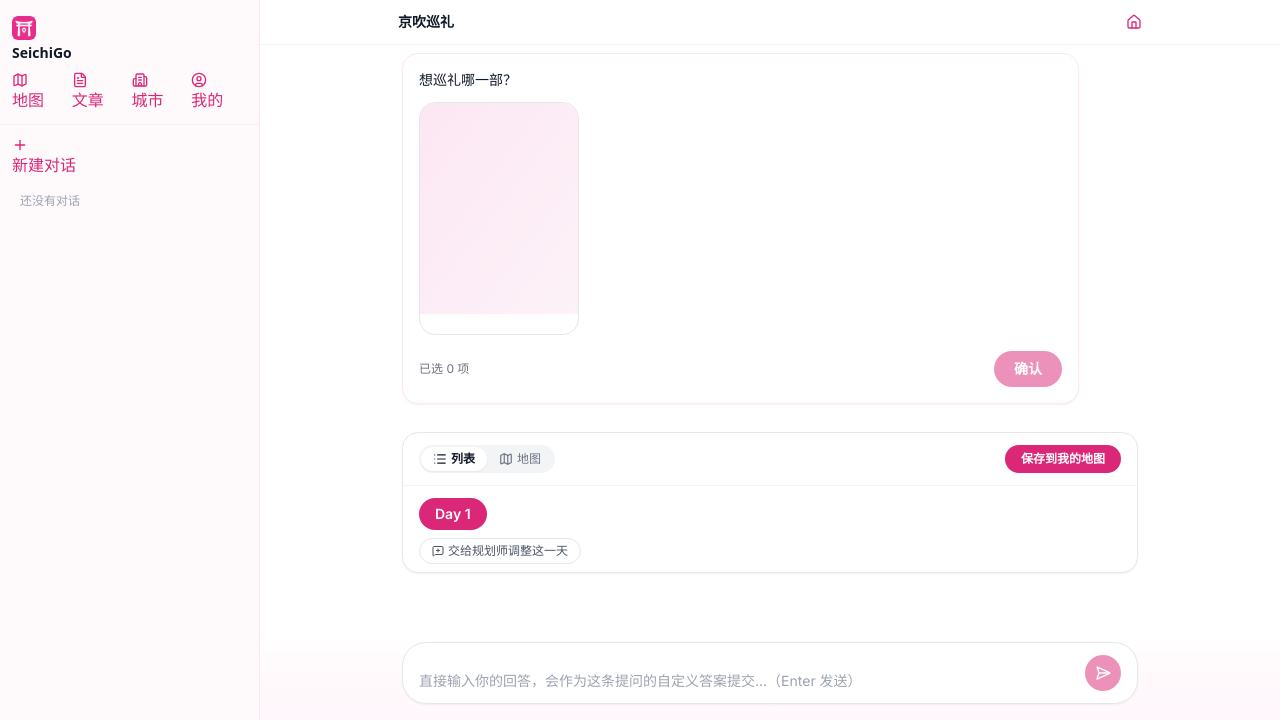
Test: PlanPlanner 重试与空消息守卫 › 空 message 不发 fetch，只在聊天流追加本地提示
# label 为空的作品卡（可访问名为空）+ 底部确认条
Click the 1st button: (499, 218) left=419, top=102, right=579, bottom=335
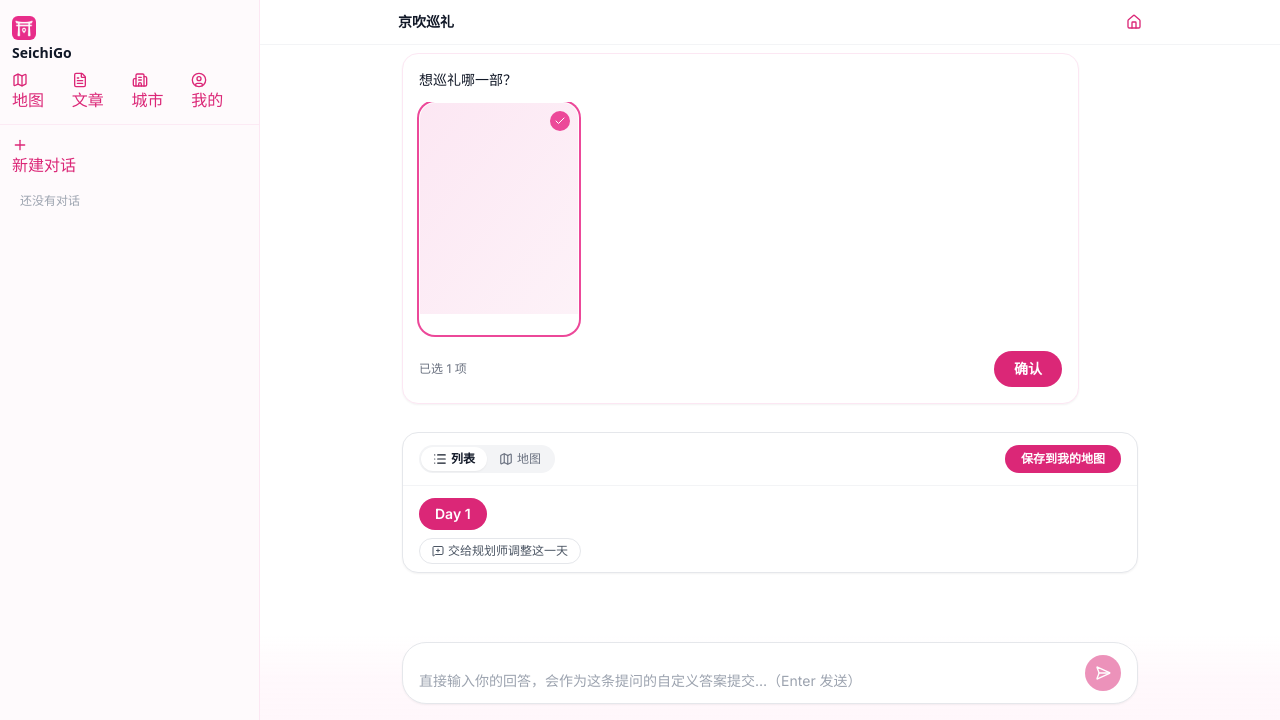
Click the button "确认": (1028, 369) left=994, top=351, right=1062, bottom=387
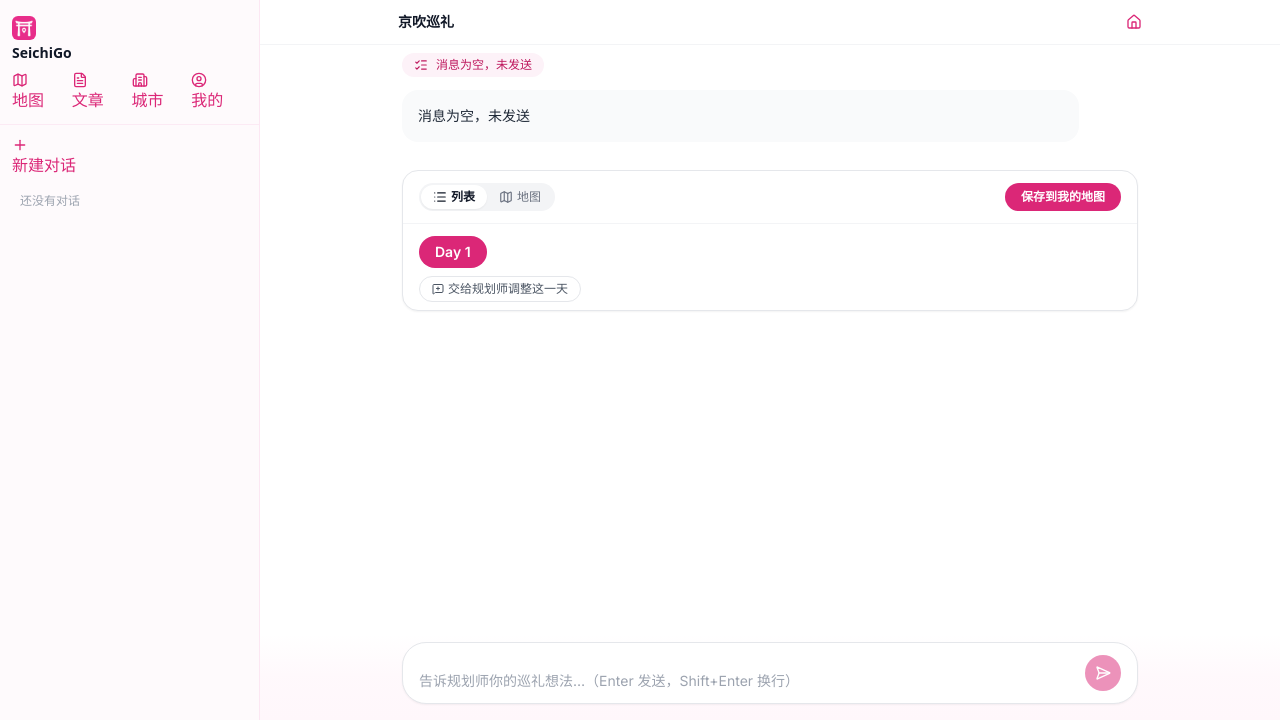
Check: the 1st text "消息为空，未发送" is shown, box left=436, top=57, right=532, bottom=73
